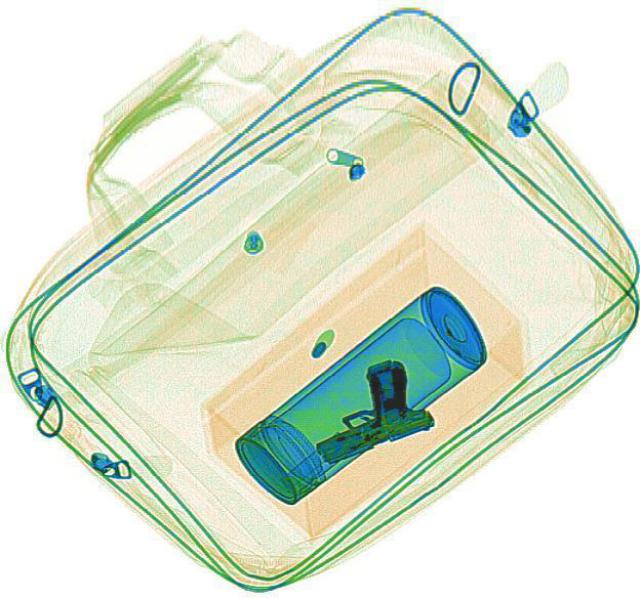Gun: (288, 352, 437, 463)
